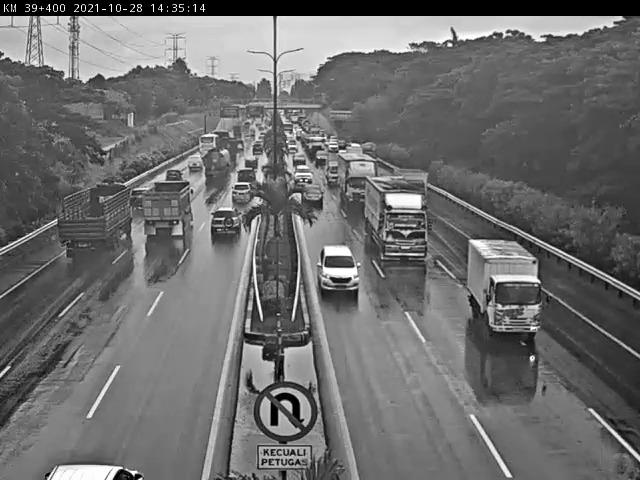big truck: (61, 164, 125, 262), (356, 180, 428, 257), (146, 176, 191, 249), (342, 155, 382, 201), (202, 147, 231, 183)
car: (51, 450, 157, 480), (319, 238, 358, 286), (210, 207, 234, 241), (305, 181, 328, 210), (128, 182, 145, 214), (231, 185, 249, 214), (158, 167, 178, 193), (291, 167, 312, 185), (182, 154, 197, 179), (242, 160, 257, 179), (235, 172, 253, 187), (252, 143, 264, 157), (314, 149, 325, 163), (292, 152, 306, 161), (328, 160, 334, 181)
small truck: (468, 238, 552, 336)
